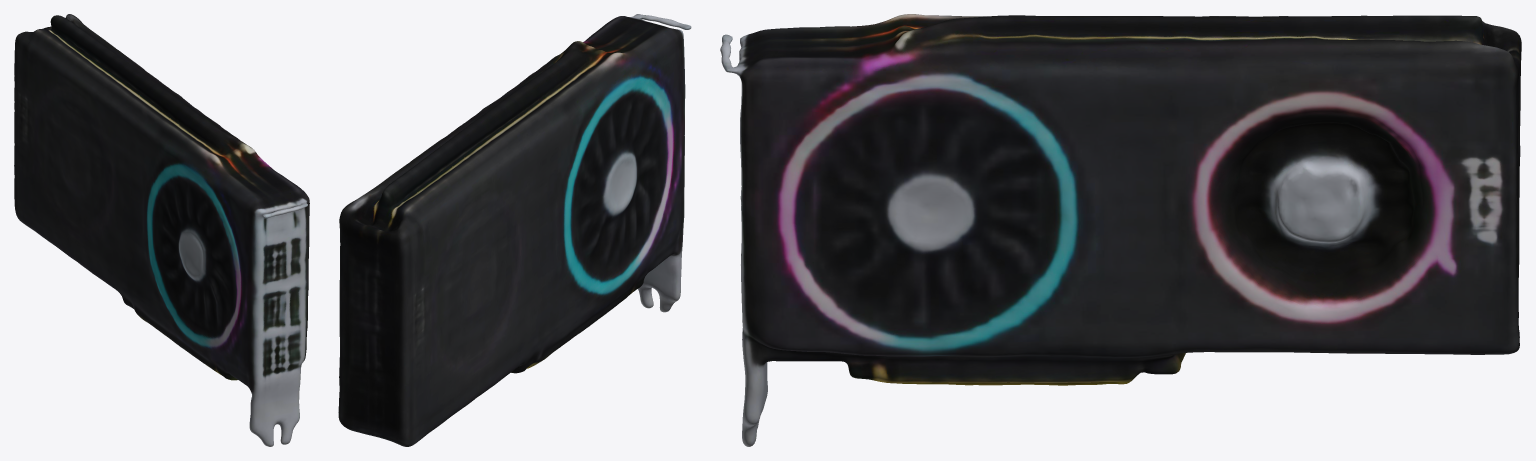
The model's file is 3dd23c5c831b_A_Graphic_card__3d_.fbx.
3 views of the same model, side by side, from view 1: azimuth 30°, elevation 25°; view 2: azimuth 150°, elevation 25°; view 3: azimuth 270°, elevation 25° (orthographic). The views are drawn at different scales.
Parts seen in each view (by area): view 1: high_poly; view 2: high_poly; view 3: high_poly.
Boxes of the visible parts, x1,y1,x2,y2 form: high_poly: [14, 14, 309, 446]; high_poly: [338, 14, 691, 446]; high_poly: [720, 14, 1521, 446].
Bounding box in the file's own units: 14.74 × 58.96 × 100.
